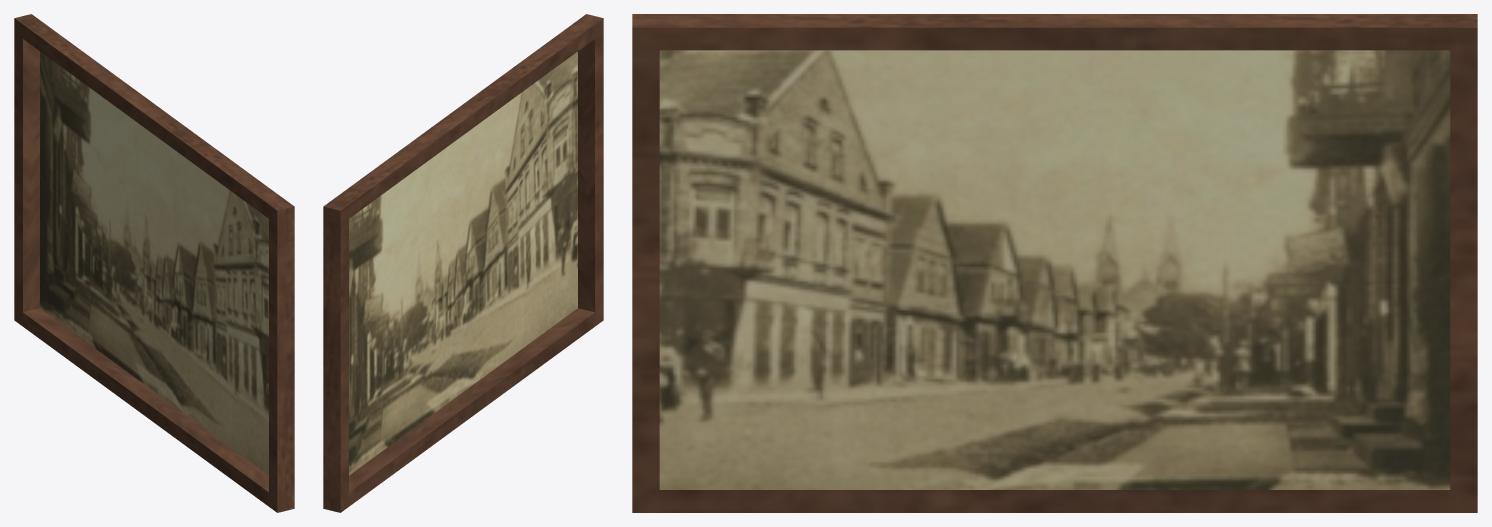
File: Painting.fbx
3 views of the same model, side by side, from view 1: azimuth 30°, elevation 25°; view 2: azimuth 150°, elevation 25°; view 3: azimuth 270°, elevation 25° (orthographic). The views are drawn at different scales.
Parts seen in each view (by area): view 1: Painting; view 2: Painting; view 3: Painting.
Part boxes in pixels (x1,y1,x2,y2): Painting: [14, 14, 294, 512]; Painting: [323, 14, 603, 512]; Painting: [632, 14, 1477, 512].
Size of the model in its own units: 9.33 by 156 by 247.
Materials: 1 (1 with a texture image).
